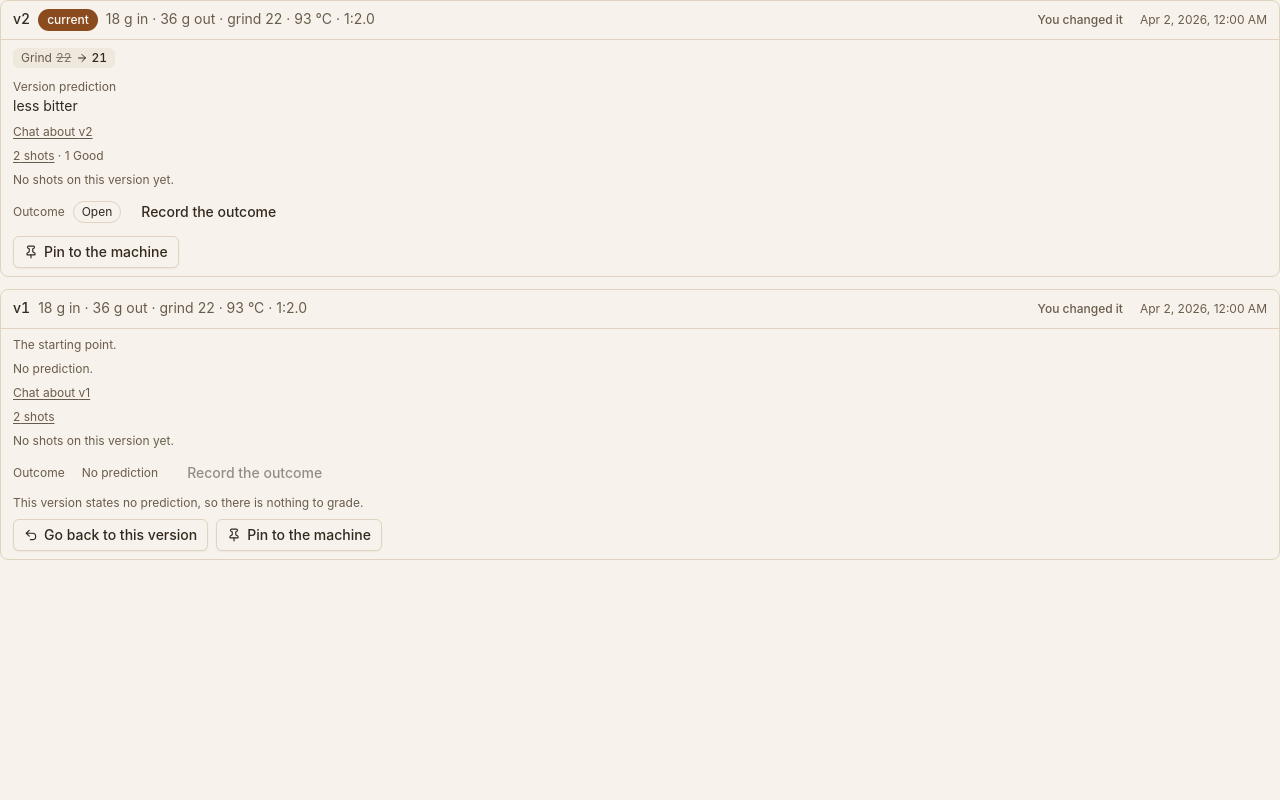
Test case: VersionTimeline › names the group the four grades belong to
This screenshot has width=1280, height=800.
Click the button "Record the outcome" next to "Open": click(209, 212) [129,196,288,228]
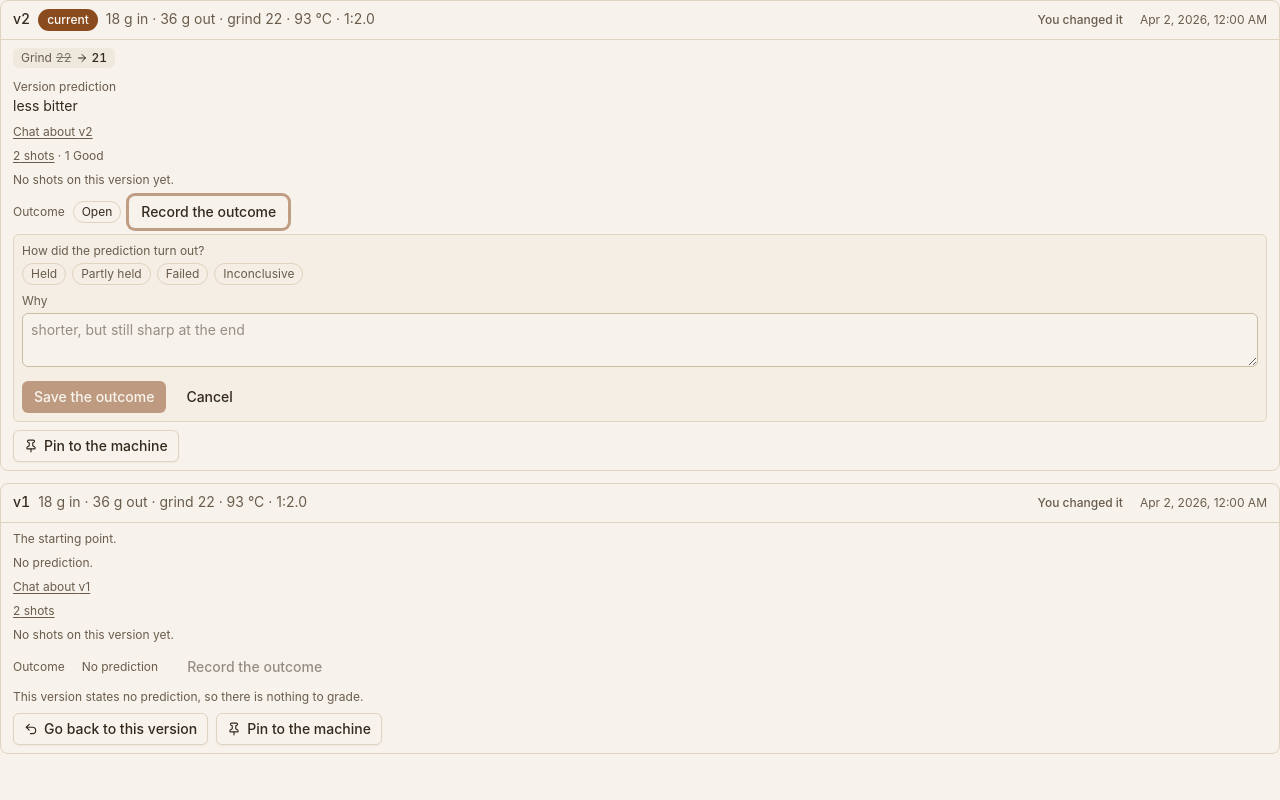
Expected: the element "How did the prediction turn out?" is shown, [22,243,303,285]
